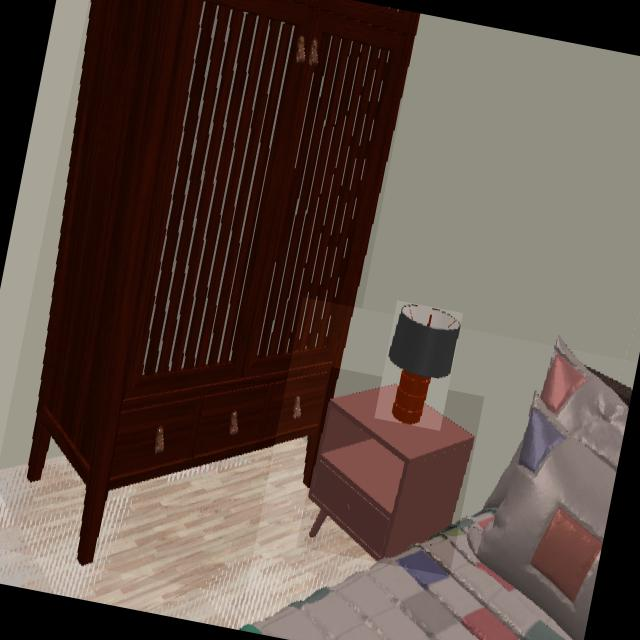bed: (240, 347, 632, 640)
lamp: (387, 305, 460, 426)
nighttable: (308, 383, 475, 562)
wardrobe: (28, 0, 419, 566)
